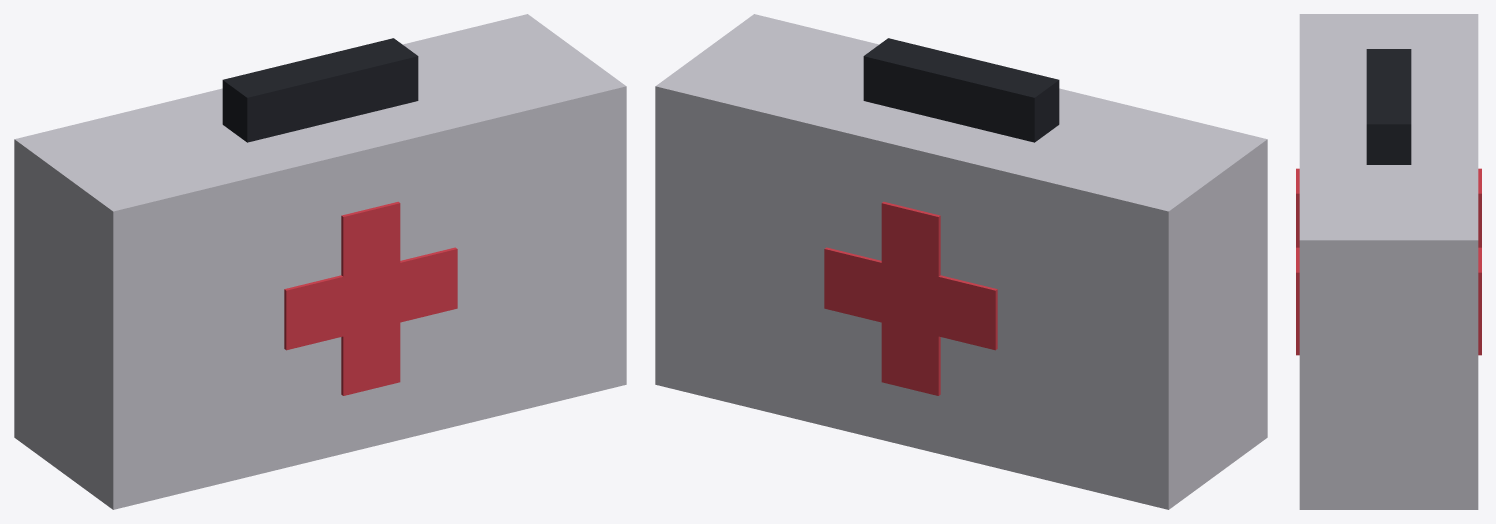
The model's file is medkit.glb.
The picture shows the model from 3 angles, left to right: view 1: azimuth 30°, elevation 25°; view 2: azimuth 150°, elevation 25°; view 3: azimuth 270°, elevation 25°; orthographic projection. The views are drawn at different scales.
Visible parts, largest first — view 1: model; view 2: model; view 3: model.
Boxes of the visible parts, x1,y1,x2,y2 form: model: [14, 14, 626, 509]; model: [655, 14, 1267, 509]; model: [1296, 14, 1481, 509].
Size of the model in its own units: 0.36 by 0.23 by 0.125.
